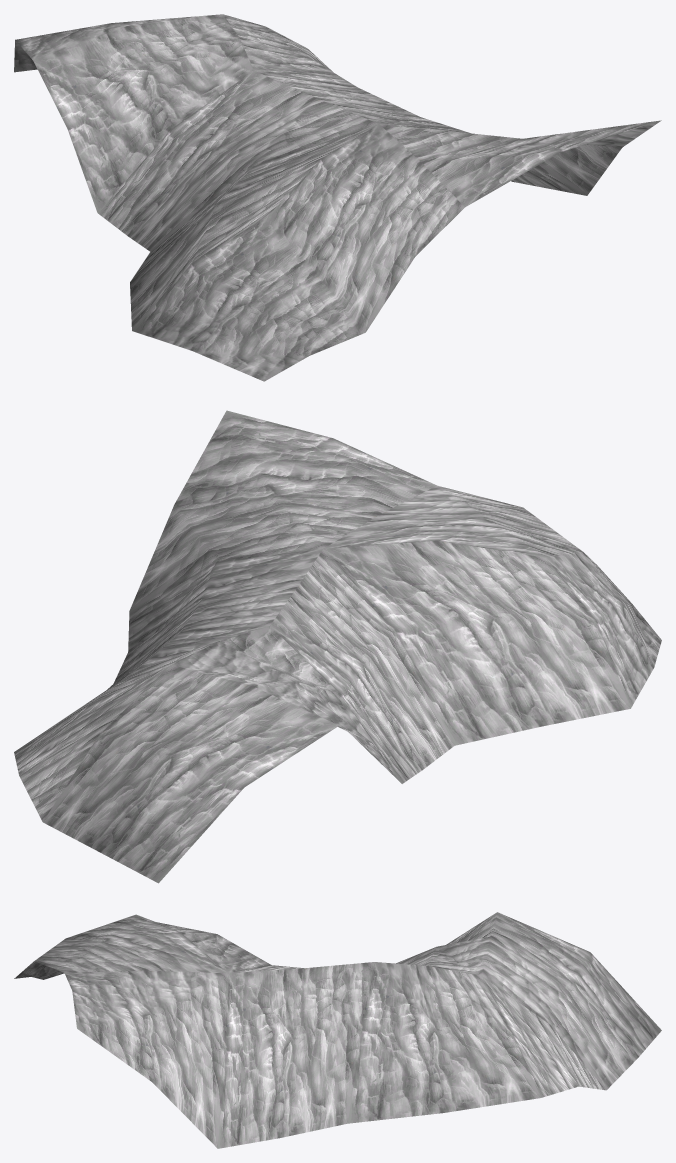
The model's file is SWORDLIGHT20_PS-AREA03_48.fbx.
The picture shows the model from 3 angles, top to bottom: view 1: azimuth 30°, elevation 25°; view 2: azimuth 150°, elevation 25°; view 3: azimuth 270°, elevation 25°; orthographic projection. The views are drawn at different scales.
Parts seen in each view (by area): view 1: SWORDLIGHT20_PS-AREA03_48; view 2: SWORDLIGHT20_PS-AREA03_48; view 3: SWORDLIGHT20_PS-AREA03_48.
Part boxes in pixels (bbox=[...]): SWORDLIGHT20_PS-AREA03_48: bbox=[14, 14, 661, 381]; SWORDLIGHT20_PS-AREA03_48: bbox=[14, 410, 661, 883]; SWORDLIGHT20_PS-AREA03_48: bbox=[14, 912, 661, 1148].
Size of the model in its own units: 236883 by 70755 by 339086.
Materials: 1 (1 with a texture image).
